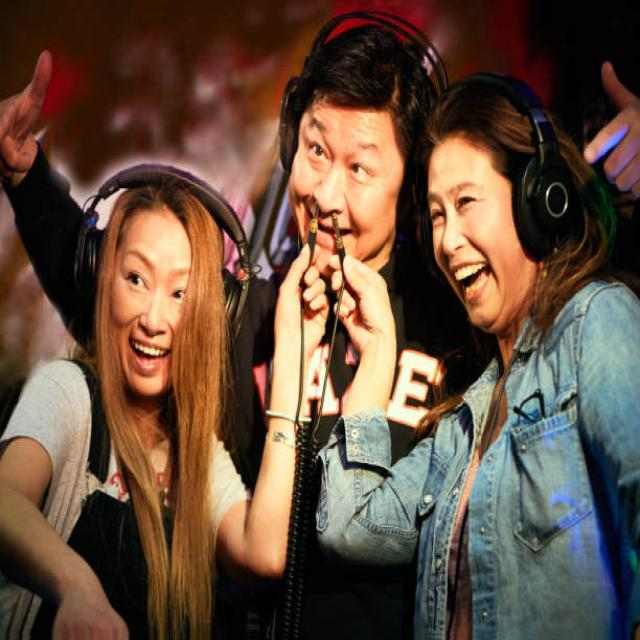Headphone: (69, 162, 252, 342), (279, 7, 449, 175), (462, 70, 574, 263)
